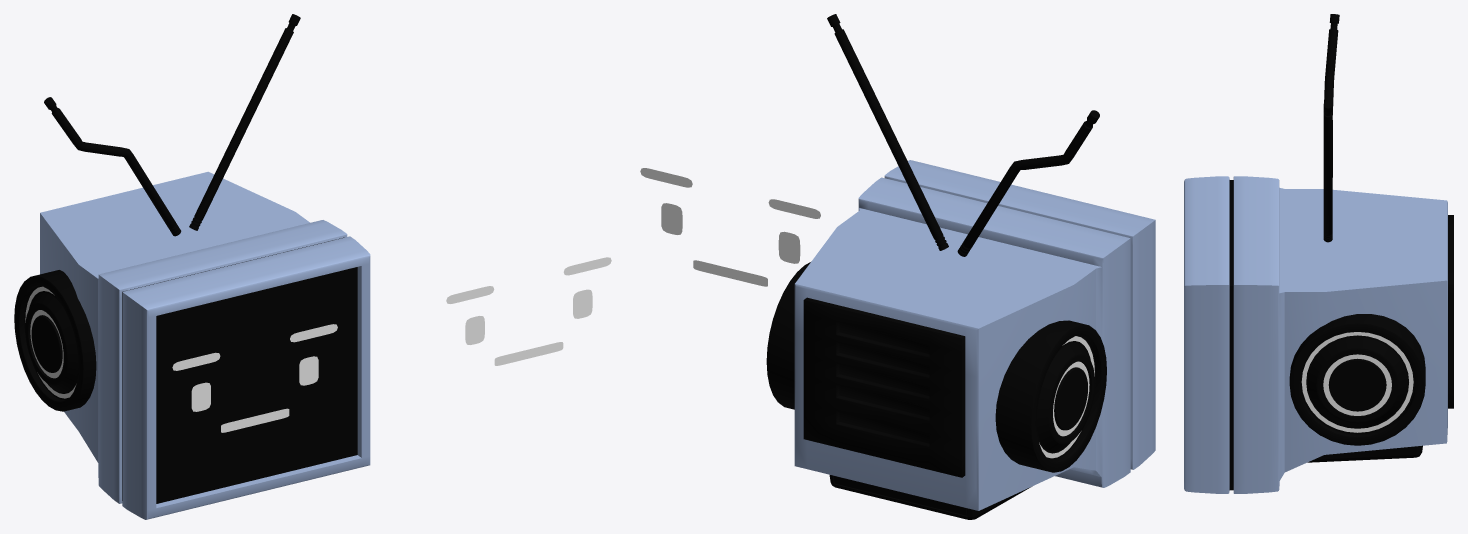
The model's file is example.gltf.
The picture shows the model from 3 angles, left to right: view 1: azimuth 30°, elevation 25°; view 2: azimuth 150°, elevation 25°; view 3: azimuth 270°, elevation 25°; orthographic projection. The views are drawn at different scales.
Visible parts, largest first — view 1: pascal_Head; view 2: pascal_Head; view 3: pascal_Head.
Boxes of the visible parts, bbox=[...] form: pascal_Head: bbox=[14, 14, 611, 519]; pascal_Head: bbox=[640, 14, 1155, 519]; pascal_Head: bbox=[1184, 14, 1453, 493].
Bounding box in the file's own units: 0.6472 × 0.5009 × 0.3142.
